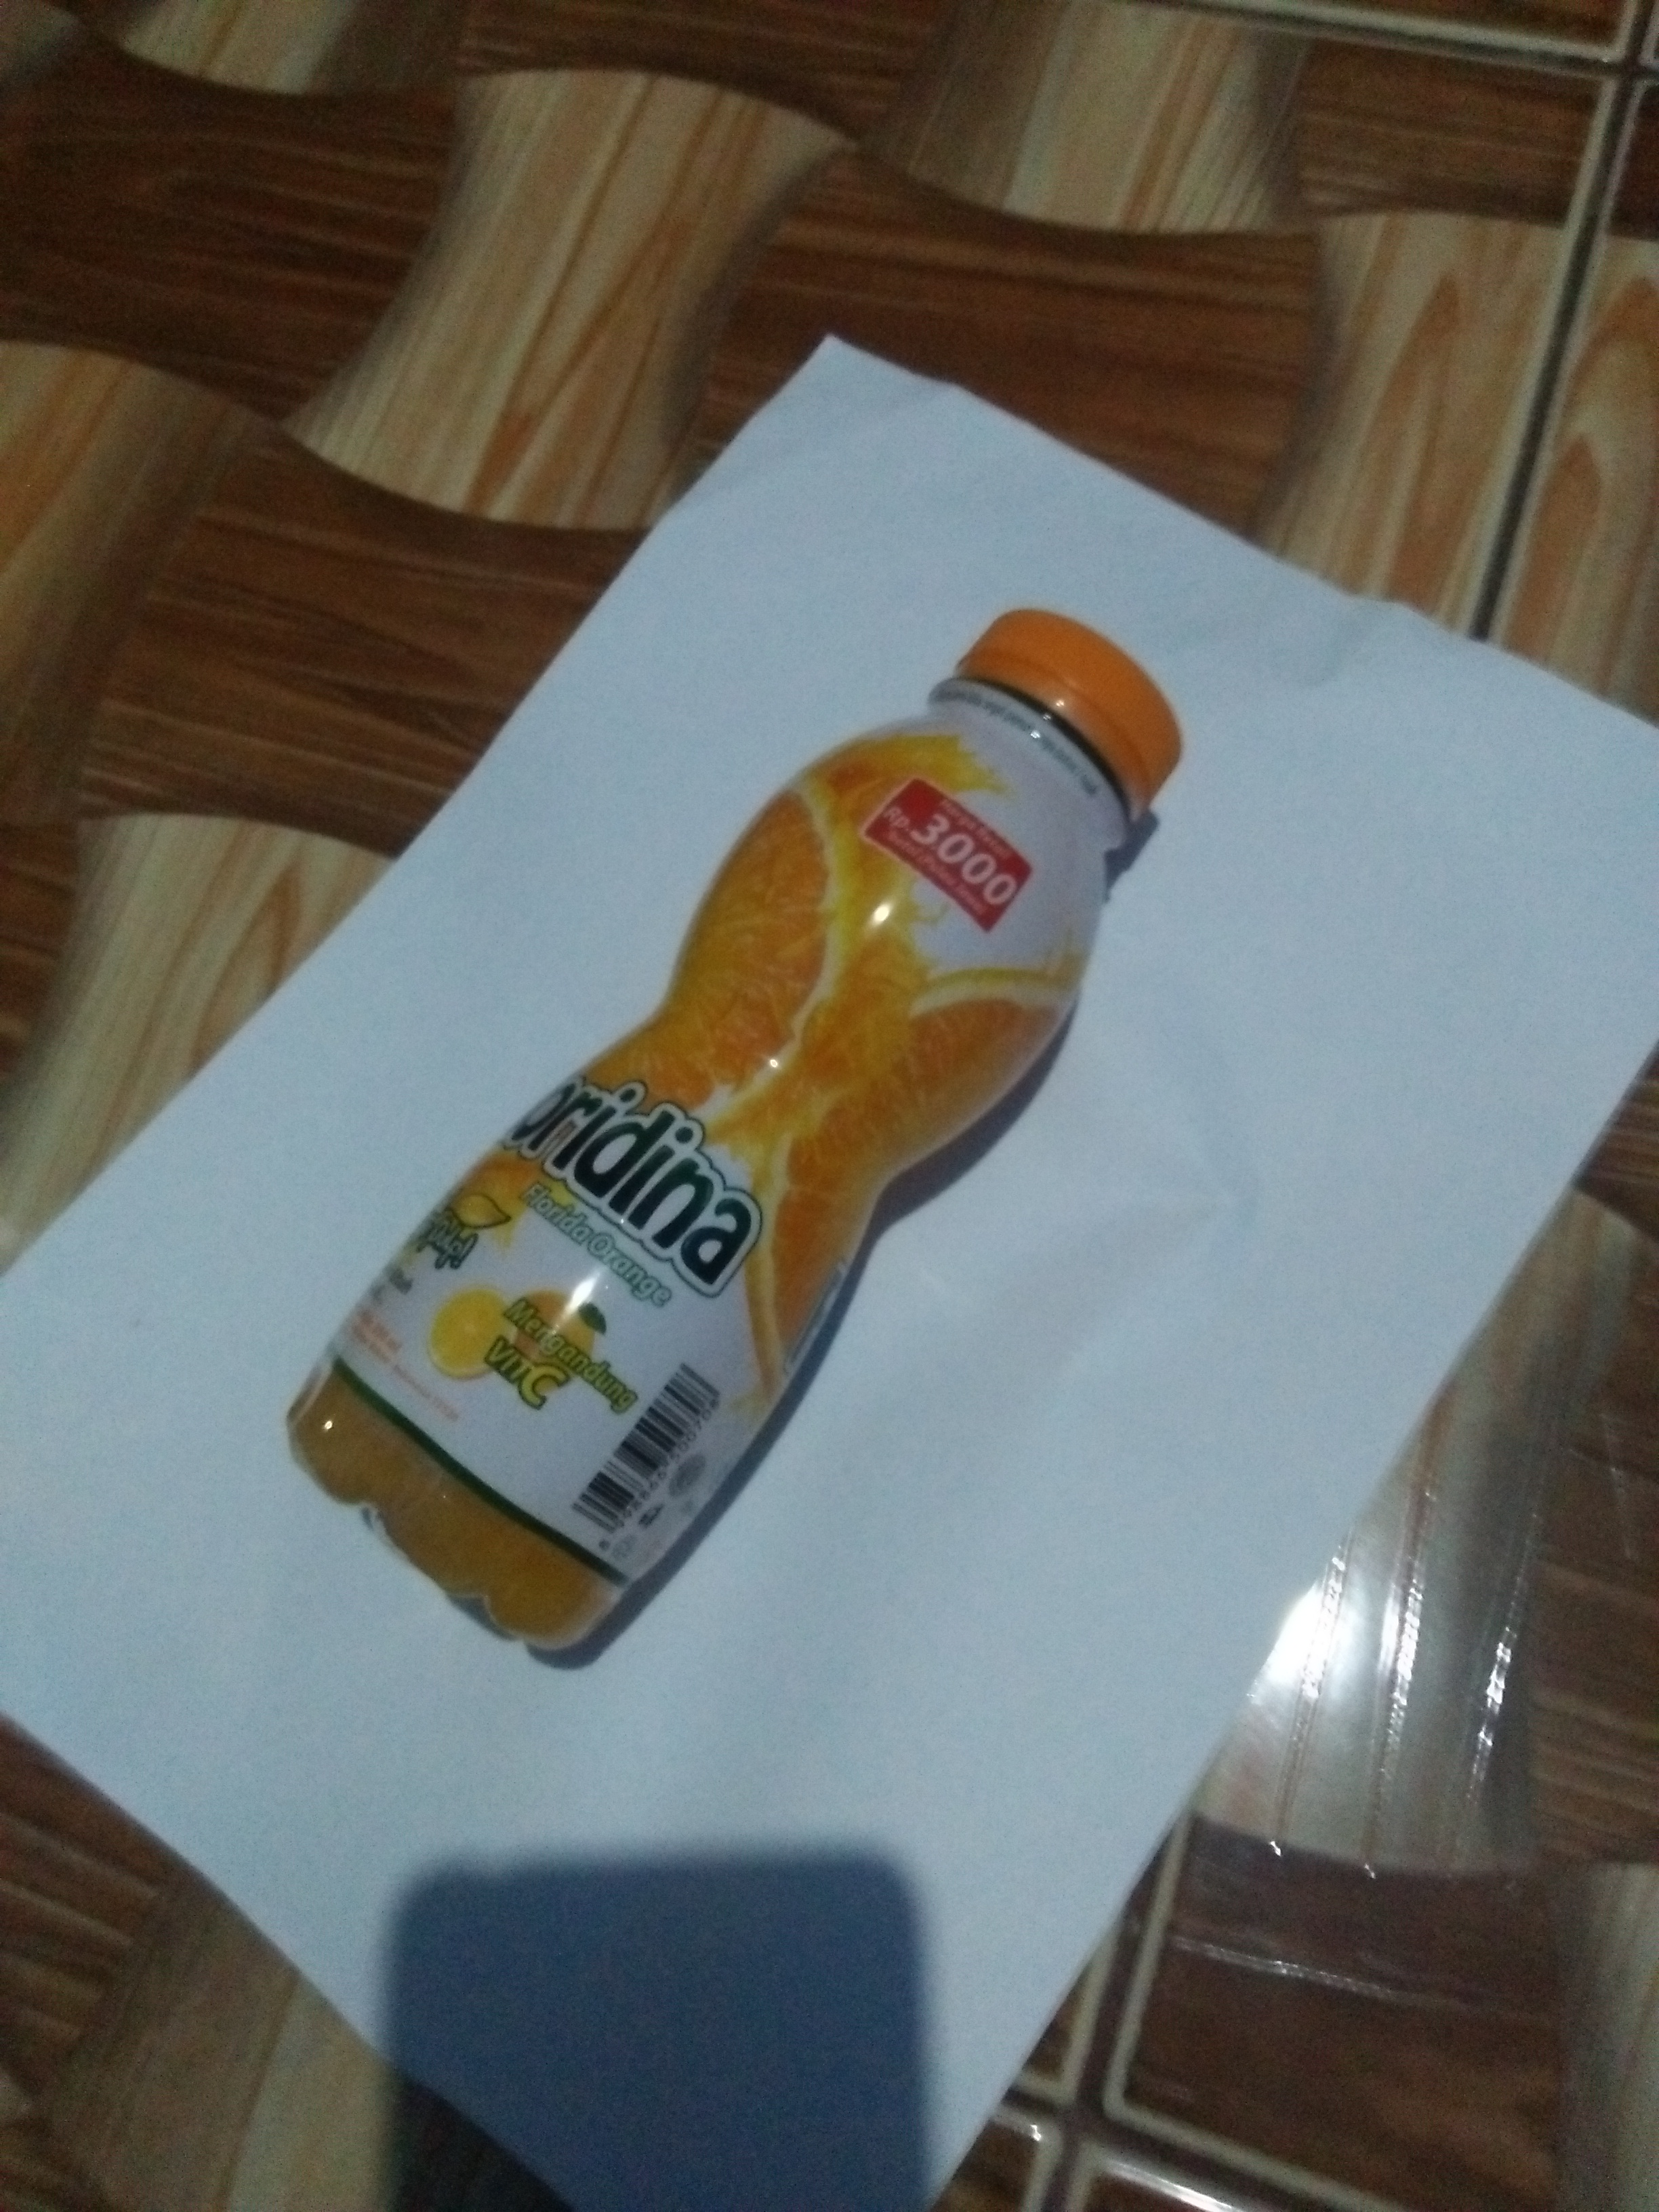Floridina: (256, 590, 1227, 1677)
